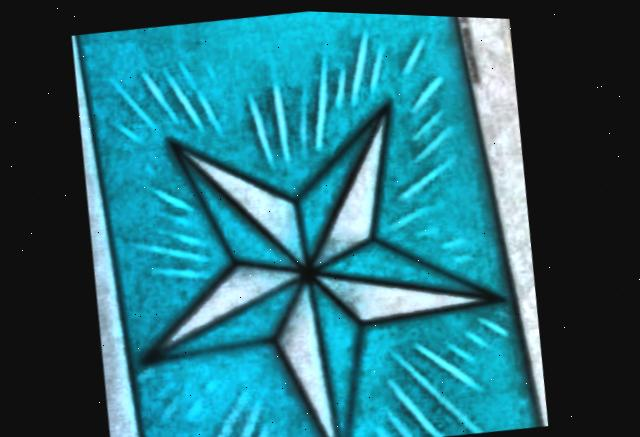La Estrella: (77, 9, 544, 437)
